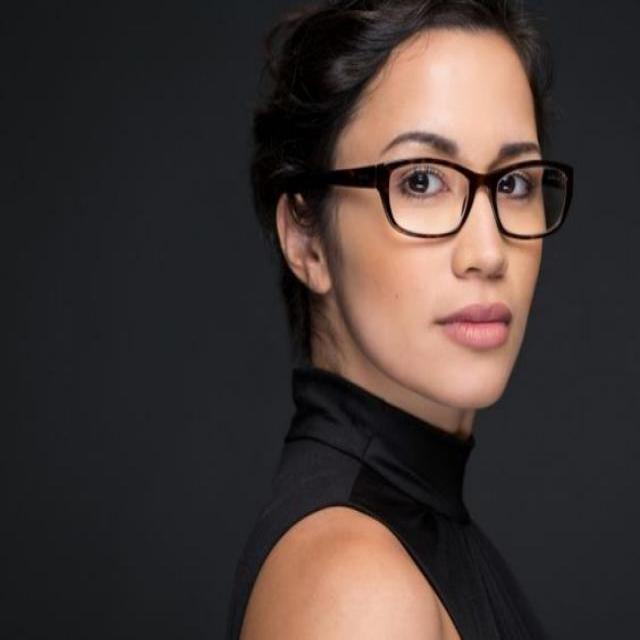glasses: (290, 157, 576, 241)
